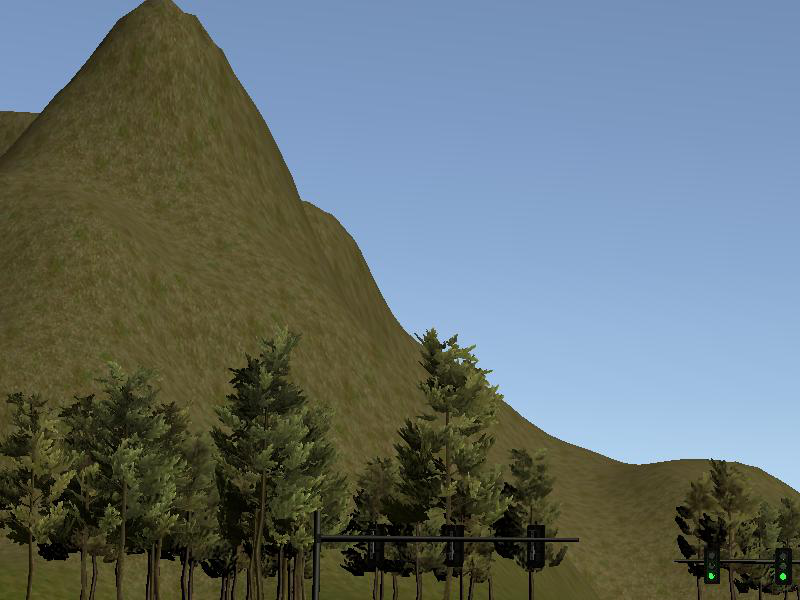green: (775, 547, 793, 585), (705, 544, 721, 585)
